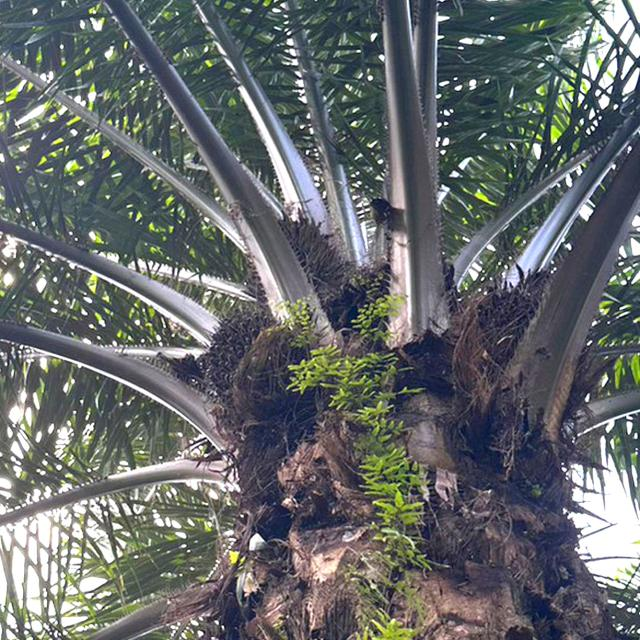almost: (189, 303, 319, 414)
